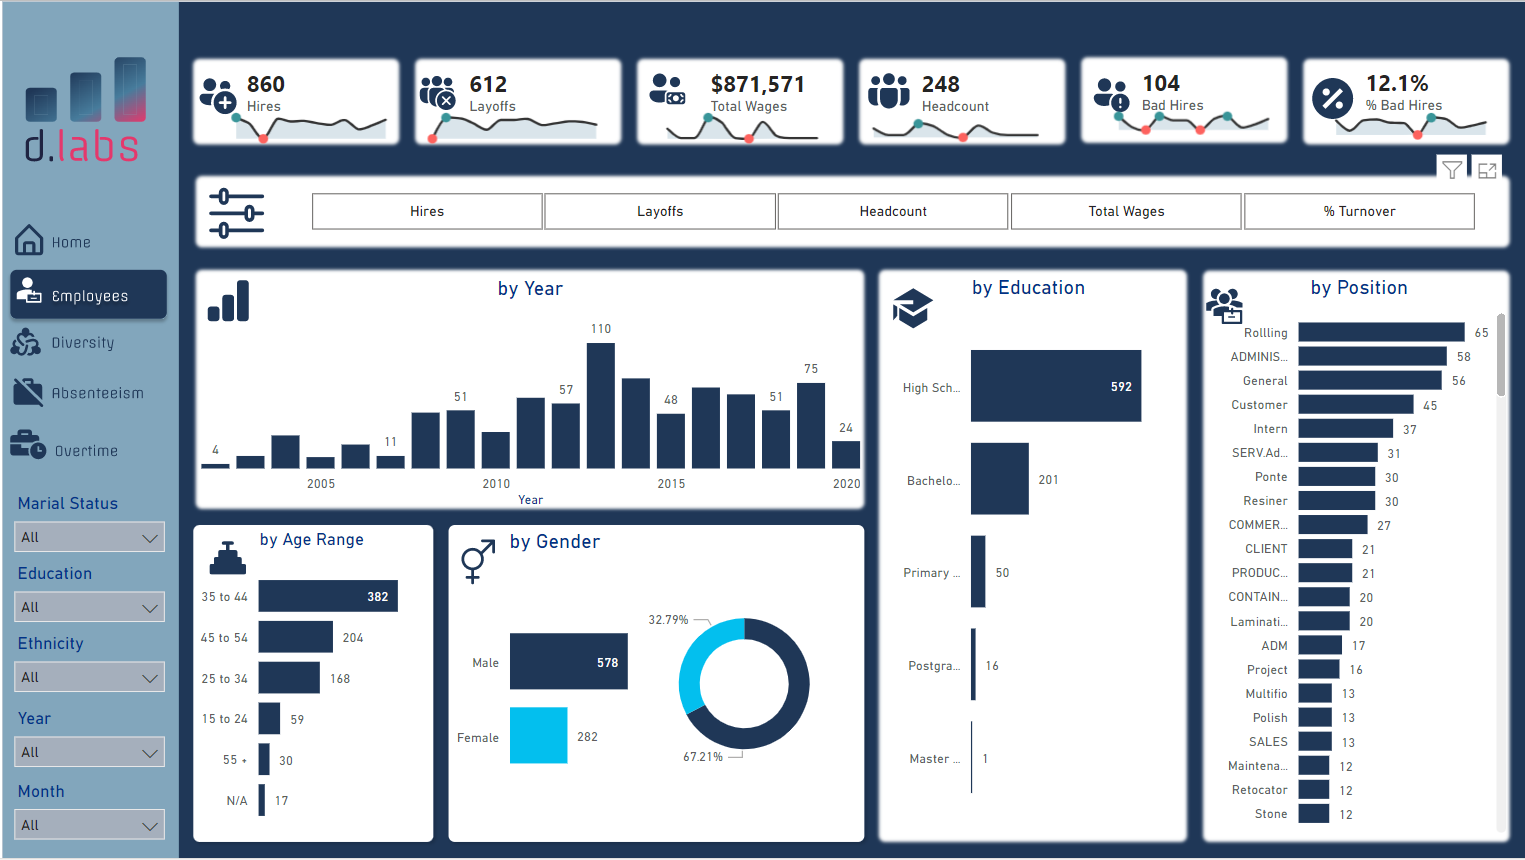

This screenshot's page, from the dashboard's own definition file:
{"tool":"powerbi","page":{"name":"Employees","canvas":[1280,720],"ordinal":1},"visuals":[{"type":"multiRowCard","fields":{"Values":["Measures (2).Hires"]},"box":[200.1,51.4,132.8,68.2],"z":0},{"type":"multiRowCard","fields":{"Values":["Measures (2).Layoffs"]},"box":[387,51.4,114.2,85],"z":1000},{"type":"multiRowCard","fields":{"Values":["Measures (2).Total Wages"]},"box":[589.8,51.4,116.9,50.5],"z":2000},{"type":"multiRowCard","fields":{"Values":["Measures (2).Headcount"]},"box":[767.8,51.4,117.8,50.5],"z":3000},{"type":"multiRowCard","fields":{"Values":["Measures (2).Bad Hires"]},"box":[952,50.5,102.7,49.6],"z":4000},{"type":"multiRowCard","fields":{"Values":["Measures (2).% Bad Hires"]},"box":[1140.7,50.5,104.5,51.4],"z":5000},{"type":"clusteredColumnChart","title":"by Year","fields":{"Y":["Measures (2).Hires"],"Category":["dCalendario.Year","dCalendario.Month"]},"box":[161.5,230.5,564.1,198.4],"z":6000},{"type":"clusteredBarChart","title":"by Education","fields":{"Y":["Measures (2).Hires"],"Category":["dFuncionarios.Escolaridade"]},"box":[739.5,230.3,246.2,473.8],"z":7000},{"type":"clusteredBarChart","title":"by Position","fields":{"Y":["Measures (2).Hires"],"Category":["fContratos.Cargo Resumido","fContratos.Cargo"]},"box":[1012.3,230.3,255.9,473.8],"z":8000},{"type":"clusteredBarChart","title":"by Age Range","fields":{"Y":["Measures (2).Hires"],"Category":["dFuncionarios.Faixa Etaria"]},"box":[161.2,442.8,199.3,261.3],"z":9000},{"type":"clusteredBarChart","title":"by Gender","fields":{"Y":["Measures (2).Hires"],"Category":["dFuncionarios.Sexo"]},"box":[376.4,442.8,177.1,261.3],"z":10000},{"type":"donutChart","fields":{"Category":["dFuncionarios.Sexo"],"Y":["Measures (2).Hires"]},"box":[521.6,442.8,203.7,261.3],"z":11000},{"type":"slicer","fields":{"Values":["Measure Selection.Filter"]},"box":[233.8,154.1,1027.3,44.3],"z":12000},{"type":"slicer","fields":{"Values":["dFuncionarios.Estado Civil"]},"box":[0,408.3,147,70],"z":13000},{"type":"slicer","fields":{"Values":["dFuncionarios.Escolaridade"]},"box":[0,467.6,147,70],"z":14000},{"type":"slicer","fields":{"Values":["dFuncionarios.Nacionalidade"]},"box":[0,526.1,147,70],"z":15000},{"type":"slicer","fields":{"Values":["dCalendario.Year"]},"box":[0,588.9,147,70],"z":16000},{"type":"slicer","fields":{"Values":["dCalendario.MOnth"]},"box":[0,650,147,70],"z":17000},{"type":"PBI_CV_25997FEB_F466_44FA_B562_AC4063283C4C","fields":{"measure":["Measures (2).Hires"],"axis":["dCalendario.Month"]},"box":[178,80.6,165.6,46.1],"z":18000},{"type":"PBI_CV_25997FEB_F466_44FA_B562_AC4063283C4C","fields":{"measure":["Measures (2).Layoffs"],"axis":["dCalendario.Month"]},"box":[343.6,80.6,178,46.1],"z":19000},{"type":"PBI_CV_25997FEB_F466_44FA_B562_AC4063283C4C","fields":{"measure":["Measures (2).Total Wages"],"axis":["dCalendario.Month"]},"box":[541.1,80.6,165.6,46.1],"z":20000},{"type":"PBI_CV_25997FEB_F466_44FA_B562_AC4063283C4C","fields":{"measure":["Measures (2).Headcount"],"axis":["dCalendario.Month"]},"box":[713.8,85.9,178,39.9],"z":21000},{"type":"PBI_CV_25997FEB_F466_44FA_B562_AC4063283C4C","fields":{"measure":["Measures (2).Bad Hires"],"axis":["dCalendario.Month"]},"box":[920.1,79.7,165.6,39.9],"z":22000},{"type":"PBI_CV_25997FEB_F466_44FA_B562_AC4063283C4C","fields":{"measure":["Measures (2).% Bad Hires"],"axis":["dCalendario.Month"]},"box":[1102.6,80.6,165.6,42.5],"z":23000},{"type":"actionButton","box":[6.2,271,109.8,32.8],"z":24000},{"type":"actionButton","box":[6.2,303.8,117.8,41.6],"z":25000},{"type":"actionButton","box":[6.2,354.2,100.1,38.1],"z":26000},{"type":"actionButton","box":[6.2,182.4,109.8,32.8],"z":27000}]}

Visuals, with their boxes on the page's 1280x720 design canvas (x1, y1, x2, y2). These are canvas units, not pixel positions in the 1525x860 screenshot, which may show the page scaled, cropped or inside an application window:
multiRowCard - Measures (2).Hires: locate(200, 51, 333, 120)
multiRowCard - Measures (2).Layoffs: locate(387, 51, 501, 136)
multiRowCard - Measures (2).Total Wages: locate(590, 51, 707, 102)
multiRowCard - Measures (2).Headcount: locate(768, 51, 886, 102)
multiRowCard - Measures (2).Bad Hires: locate(952, 50, 1055, 100)
multiRowCard - Measures (2).% Bad Hires: locate(1141, 50, 1245, 102)
"by Year" clusteredColumnChart: locate(162, 230, 726, 429)
"by Education" clusteredBarChart: locate(740, 230, 986, 704)
"by Position" clusteredBarChart: locate(1012, 230, 1268, 704)
"by Age Range" clusteredBarChart: locate(161, 443, 360, 704)
"by Gender" clusteredBarChart: locate(376, 443, 554, 704)
donutChart - dFuncionarios.Sexo x Measures (2).Hires: locate(522, 443, 725, 704)
slicer - Measure Selection.Filter: locate(234, 154, 1261, 198)
slicer - dFuncionarios.Estado Civil: locate(0, 408, 147, 478)
slicer - dFuncionarios.Escolaridade: locate(0, 468, 147, 538)
slicer - dFuncionarios.Nacionalidade: locate(0, 526, 147, 596)
slicer - dCalendario.Year: locate(0, 589, 147, 659)
slicer - dCalendario.MOnth: locate(0, 650, 147, 720)
PBI_CV_25997FEB_F466_44FA_B562_AC4063283C4C - Measures (2).Hires x dCalendario.Month: locate(178, 81, 344, 127)
PBI_CV_25997FEB_F466_44FA_B562_AC4063283C4C - Measures (2).Layoffs x dCalendario.Month: locate(344, 81, 522, 127)
PBI_CV_25997FEB_F466_44FA_B562_AC4063283C4C - Measures (2).Total Wages x dCalendario.Month: locate(541, 81, 707, 127)
PBI_CV_25997FEB_F466_44FA_B562_AC4063283C4C - Measures (2).Headcount x dCalendario.Month: locate(714, 86, 892, 126)
PBI_CV_25997FEB_F466_44FA_B562_AC4063283C4C - Measures (2).Bad Hires x dCalendario.Month: locate(920, 80, 1086, 120)
PBI_CV_25997FEB_F466_44FA_B562_AC4063283C4C - Measures (2).% Bad Hires x dCalendario.Month: locate(1103, 81, 1268, 123)
actionButton: locate(6, 271, 116, 304)
actionButton: locate(6, 304, 124, 345)
actionButton: locate(6, 354, 106, 392)
actionButton: locate(6, 182, 116, 215)
